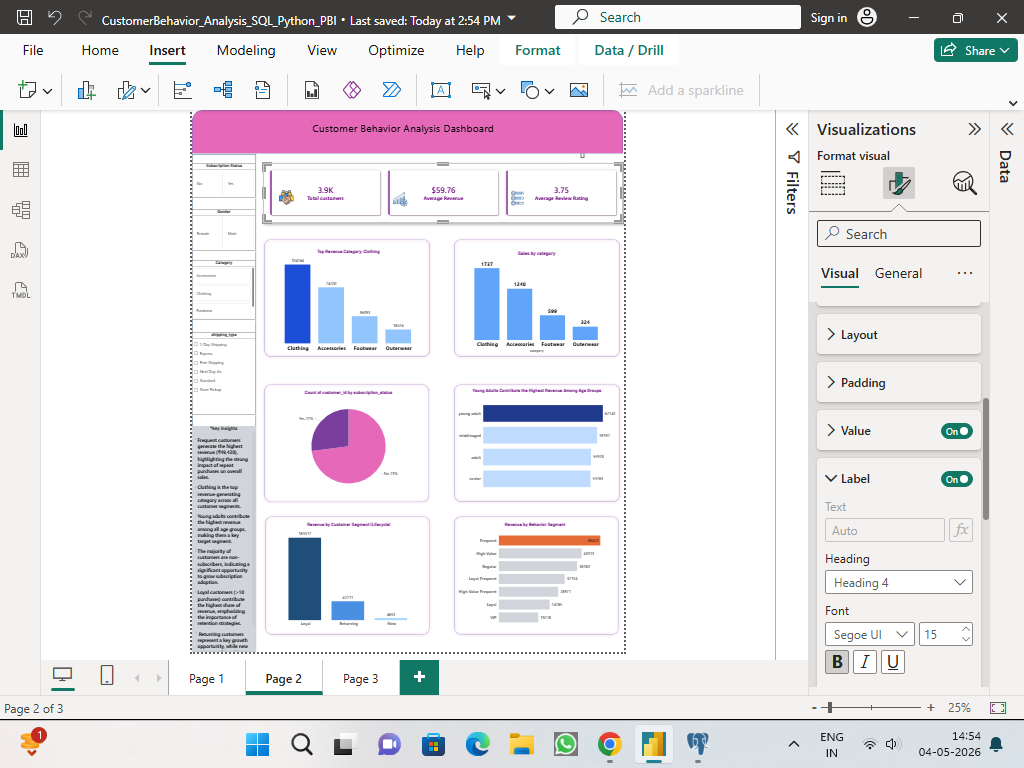

This screenshot's page, from the dashboard's own definition file:
{"tool":"powerbi","page":{"name":"Page 1","canvas":[1750,2200],"ordinal":0},"visuals":[{"type":"cardVisual","title":"Total Revenue","fields":{"Data":["public customer.Total customers","public customer.Average Revenue","public customer.average review rating"]},"box":[286.8,217.1,1463.2,240.8],"z":0},{"type":"shape","box":[0,0,1750,177.1],"z":1000},{"type":"textbox","box":[372,35.4,950.6,141.7],"z":2000},{"type":"shape","box":[0,178.6,259.8,2021.4],"z":3000},{"type":"advancedSlicerVisual","title":"Subscription  Status","fields":{"Values":["public customer.subscription_status"]},"box":[0,214.3,258.9,141.1],"z":4000},{"type":"advancedSlicerVisual","title":"Gender","fields":{"Values":["public customer.gender"]},"box":[0,417.8,260,153.3],"z":5000},{"type":"advancedSlicerVisual","title":"Category","fields":{"Values":["public customer.category"]},"box":[0,624.4,260,231.1],"z":6000},{"type":"listSlicer","fields":{"Values":["public customer.shipping_type"]},"box":[0,901.8,258.9,335.7],"z":7000},{"type":"shape","box":[283.4,516.6,690.8,495.9],"z":8000},{"type":"shape","box":[1056.8,516.6,690.8,495.9],"z":9000},{"type":"shape","box":[285.7,1104.2,687.5,497],"z":10000},{"type":"shape","box":[1056.8,1104.1,690.8,495.9],"z":11000},{"type":"clusteredColumnChart","title":"Top Revenue Category: Clothing","fields":{"Y":["public customer.Total Revenue"],"Category":["public customer.category"]},"box":[315.5,562.5,636.9,425.6],"z":12000},{"type":"clusteredColumnChart","title":"Sales by category","fields":{"Category":["public customer.category"],"Y":["CountNonNull(public customer.customer_id)"]},"box":[1089.3,571.4,622,416.7],"z":13000},{"type":"pieChart","fields":{"Category":["public customer.subscription_status"],"Y":["CountNonNull(public customer.customer_id)"]},"box":[314.6,1138.5,637.5,435.4],"z":14000},{"type":"clusteredBarChart","title":"Young Adults Contribute the Highest Revenue Among Age Groups","fields":{"Category":["public customer.age_group"],"Y":["public customer.Total Revenue"]},"box":[1075.6,1122.2,651.1,460],"z":15000},{"type":"shape","box":[288.2,1639.9,686,499.3],"z":16000},{"type":"shape","box":[1055.4,1639.9,686,499.3],"z":17000},{"type":"clusteredColumnChart","title":"Revenue by Customer Segment (Lifecycle)","fields":{"Y":["public customer.Total Revenue"],"Category":["public customer.Customer Lifecycle Segment"]},"box":[314.9,1671.6,639.2,433.8],"z":18000},{"type":"clusteredBarChart","title":"Revenue by Behavior Segment","fields":{"Y":["public customer.Total Revenue"],"Category":["public customer.Customer Segment"]},"box":[1075.6,1672.3,633.2,434.3],"z":19000},{"type":"textbox","title":"*key insights","box":[0,1283.7,259.2,916.3],"z":20000},{"type":"image","box":[352.9,318.6,60,75],"z":21000},{"type":"image","box":[817.1,325.7,60,75.7],"z":22000},{"type":"image","box":[1291.4,325.7,60,65.7],"z":23000}]}

Visuals, with their boxes on the page's 1750x2200 design canvas (x1, y1, x2, y2). These are canvas units, not pixel positions in the 1024x768 screenshot, which may show the page scaled, cropped or inside an application window:
"Total Revenue" cardVisual: {"x1": 287, "y1": 217, "x2": 1750, "y2": 458}
shape: {"x1": 0, "y1": 0, "x2": 1750, "y2": 177}
textbox: {"x1": 372, "y1": 35, "x2": 1323, "y2": 177}
shape: {"x1": 0, "y1": 179, "x2": 260, "y2": 2200}
"Subscription  Status" advancedSlicerVisual: {"x1": 0, "y1": 214, "x2": 259, "y2": 355}
"Gender" advancedSlicerVisual: {"x1": 0, "y1": 418, "x2": 260, "y2": 571}
"Category" advancedSlicerVisual: {"x1": 0, "y1": 624, "x2": 260, "y2": 856}
listSlicer - public customer.shipping_type: {"x1": 0, "y1": 902, "x2": 259, "y2": 1238}
shape: {"x1": 283, "y1": 517, "x2": 974, "y2": 1012}
shape: {"x1": 1057, "y1": 517, "x2": 1748, "y2": 1012}
shape: {"x1": 286, "y1": 1104, "x2": 973, "y2": 1601}
shape: {"x1": 1057, "y1": 1104, "x2": 1748, "y2": 1600}
"Top Revenue Category: Clothing" clusteredColumnChart: {"x1": 316, "y1": 562, "x2": 952, "y2": 988}
"Sales by category" clusteredColumnChart: {"x1": 1089, "y1": 571, "x2": 1711, "y2": 988}
pieChart - public customer.subscription_status x CountNonNull(public customer.customer_id): {"x1": 315, "y1": 1138, "x2": 952, "y2": 1574}
"Young Adults Contribute the Highest Revenue Among Age Groups" clusteredBarChart: {"x1": 1076, "y1": 1122, "x2": 1727, "y2": 1582}
shape: {"x1": 288, "y1": 1640, "x2": 974, "y2": 2139}
shape: {"x1": 1055, "y1": 1640, "x2": 1741, "y2": 2139}
"Revenue by Customer Segment (Lifecycle)" clusteredColumnChart: {"x1": 315, "y1": 1672, "x2": 954, "y2": 2105}
"Revenue by Behavior Segment" clusteredBarChart: {"x1": 1076, "y1": 1672, "x2": 1709, "y2": 2107}
"*key insights" textbox: {"x1": 0, "y1": 1284, "x2": 259, "y2": 2200}
image: {"x1": 353, "y1": 319, "x2": 413, "y2": 394}
image: {"x1": 817, "y1": 326, "x2": 877, "y2": 401}
image: {"x1": 1291, "y1": 326, "x2": 1351, "y2": 391}
